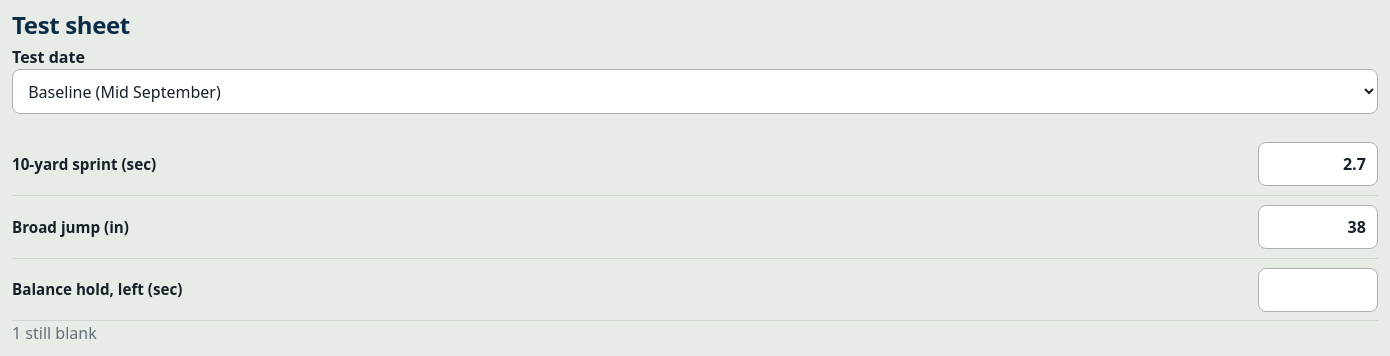
the test sheet › lets him change the window, and shows that window's numbers
Step 1. Select "Retest 1 (Mid December)" in the dropdown labelled "Test date" → (695, 92), box [12,69,1378,114]
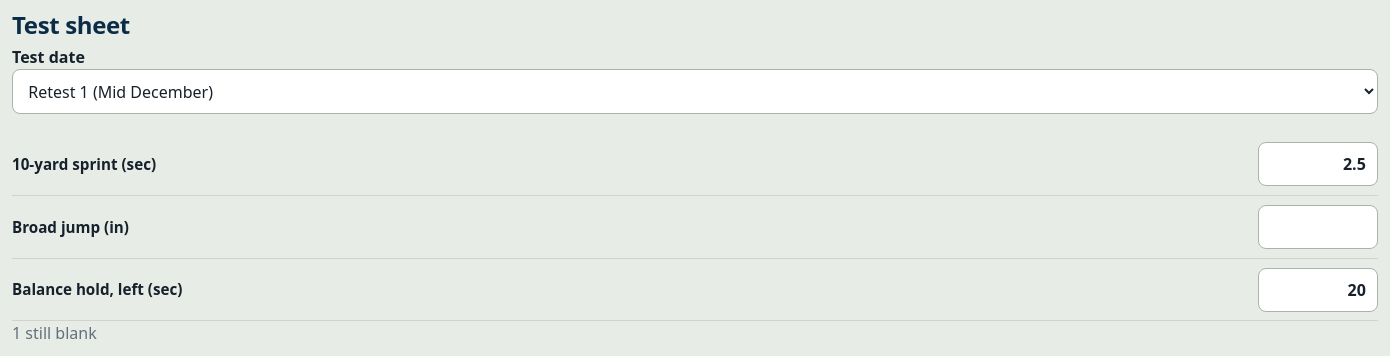
Result: the field labelled "10-yard sprint (sec)" holds "2.5" at [1258,142,1378,186]
Result: the field labelled "Balance hold, left (sec)" holds "20" at [1258,268,1378,312]
